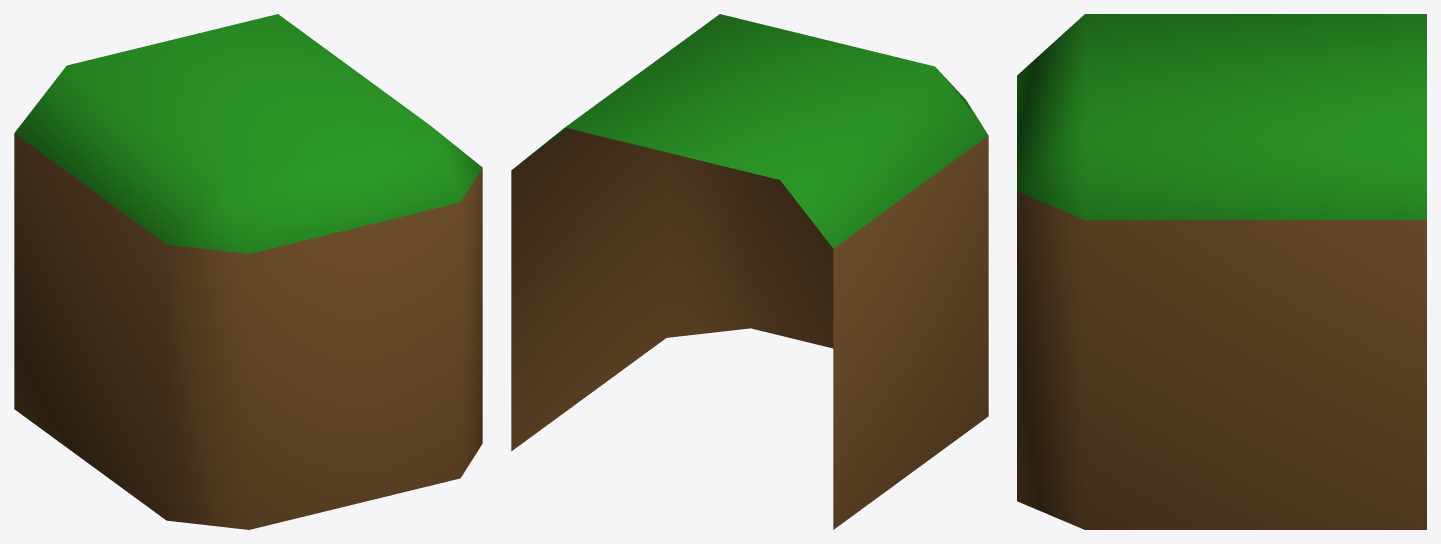
Rendered from tile test.fbx.
3 renders of one model, left to right at view 1: azimuth 30°, elevation 25°; view 2: azimuth 150°, elevation 25°; view 3: azimuth 270°, elevation 25°, orthographic. The views are drawn at different scales.
Parts seen in each view (by area): view 1: Up_Back_Single; view 2: Up_Back_Single; view 3: Up_Back_Single.
Boxes of the visible parts, bbox=[...] form: Up_Back_Single: bbox=[14, 14, 482, 529]; Up_Back_Single: bbox=[511, 14, 988, 529]; Up_Back_Single: bbox=[1017, 14, 1426, 529].
Bounding box in the file's own units: 0.25 × 0.25 × 0.25.
